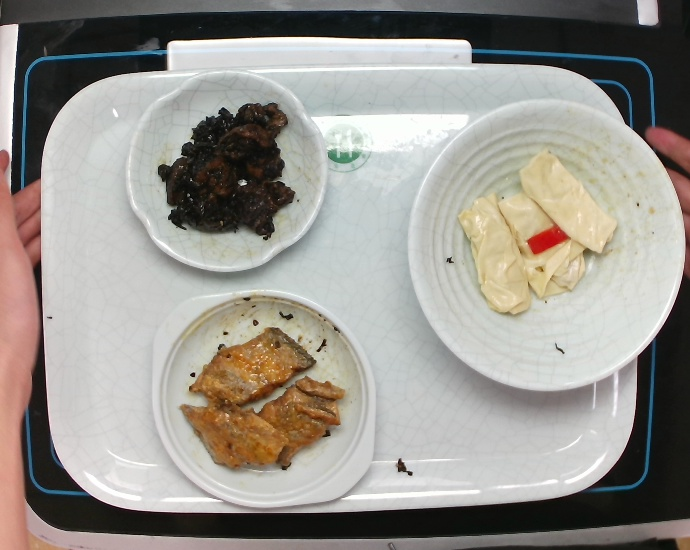JYsf-Ao_Yuan_Wan: (114, 59, 329, 282)
JYsf-Shuang_Er_Pan: (144, 287, 384, 519)
JYsf-Xiao_Tang_Wan: (400, 97, 690, 395)
